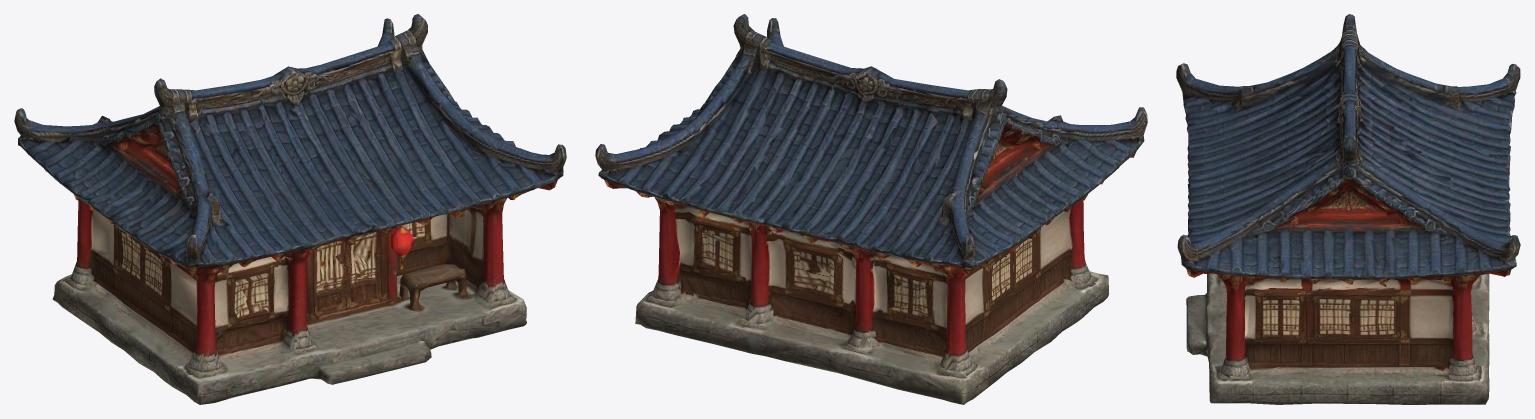
File: casa_p.glb
The picture shows the model from 3 angles, left to right: view 1: azimuth 30°, elevation 25°; view 2: azimuth 150°, elevation 25°; view 3: azimuth 270°, elevation 25°; orthographic projection. The views are drawn at different scales.
Visible parts, largest first — view 1: casa_p; view 2: casa_p; view 3: casa_p.
Boxes of the visible parts, <box> form: casa_p: <box>14,14,566,404</box>; casa_p: <box>595,14,1147,404</box>; casa_p: <box>1176,14,1520,404</box>.
Size of the model in its own units: 6.7 by 4.5 by 5.5.
Materials: 1 (1 with a texture image).
